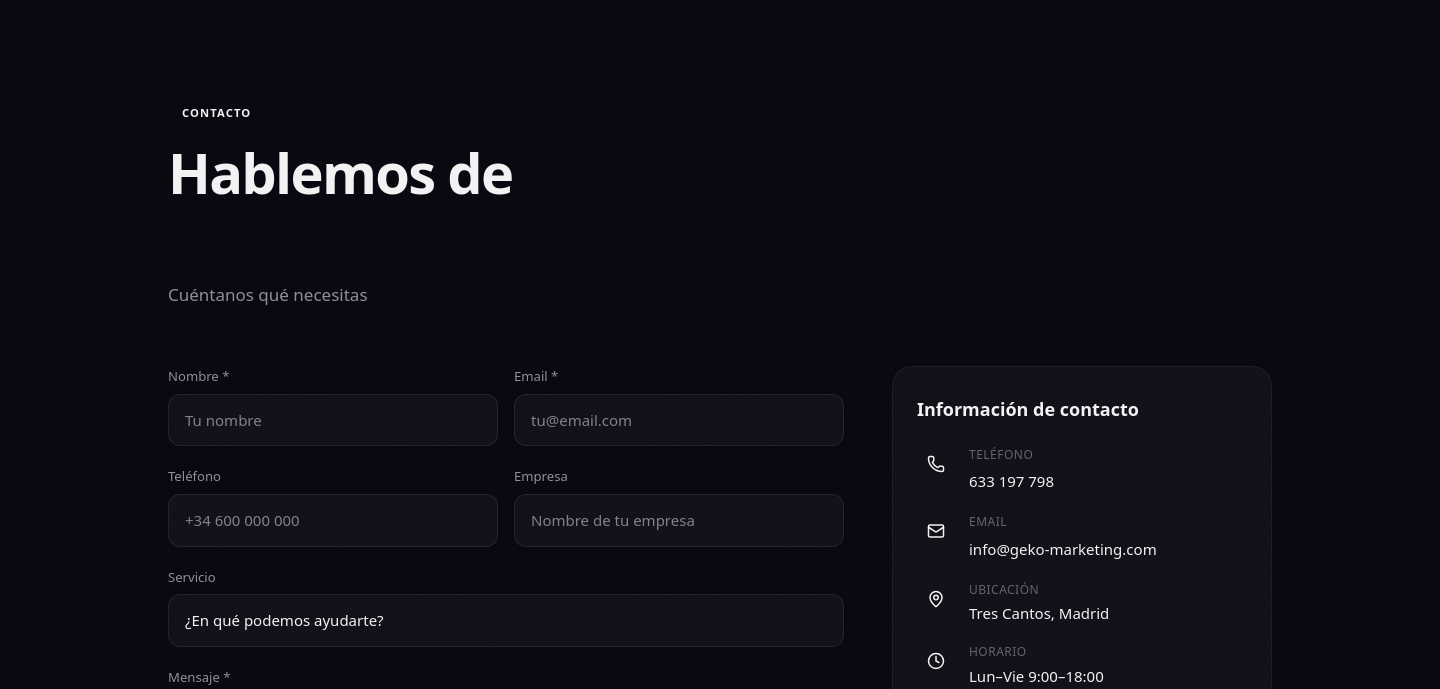
Test: ContactoClient — formulario › muestra mensaje de error si el envío falla
The image size is (1440, 689).
Type "Ana García" into the field labelled "Nombre *". click: [333, 420]
box: left=168, top=394, right=498, bottom=446
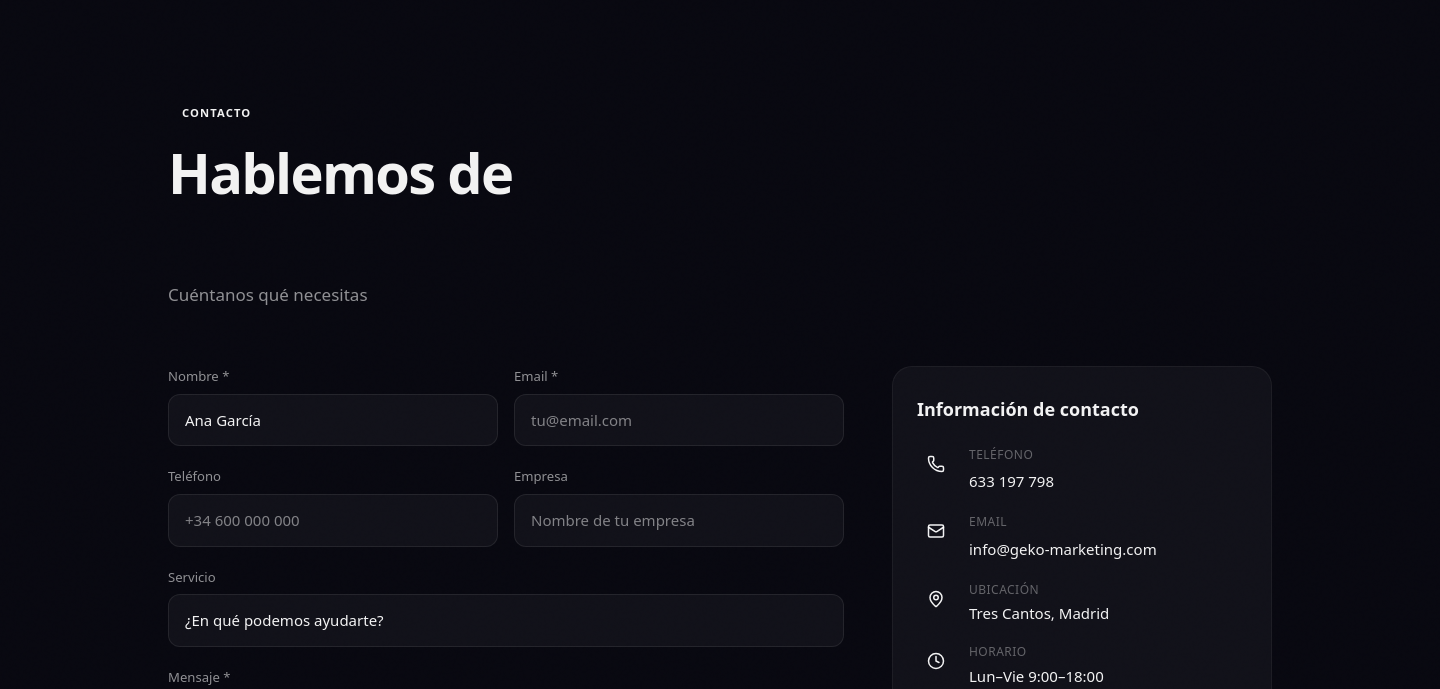
Type "ana@ejemplo.com" into the field labelled "Email *". click: [679, 420]
box: left=514, top=394, right=844, bottom=446
(page scrolled)
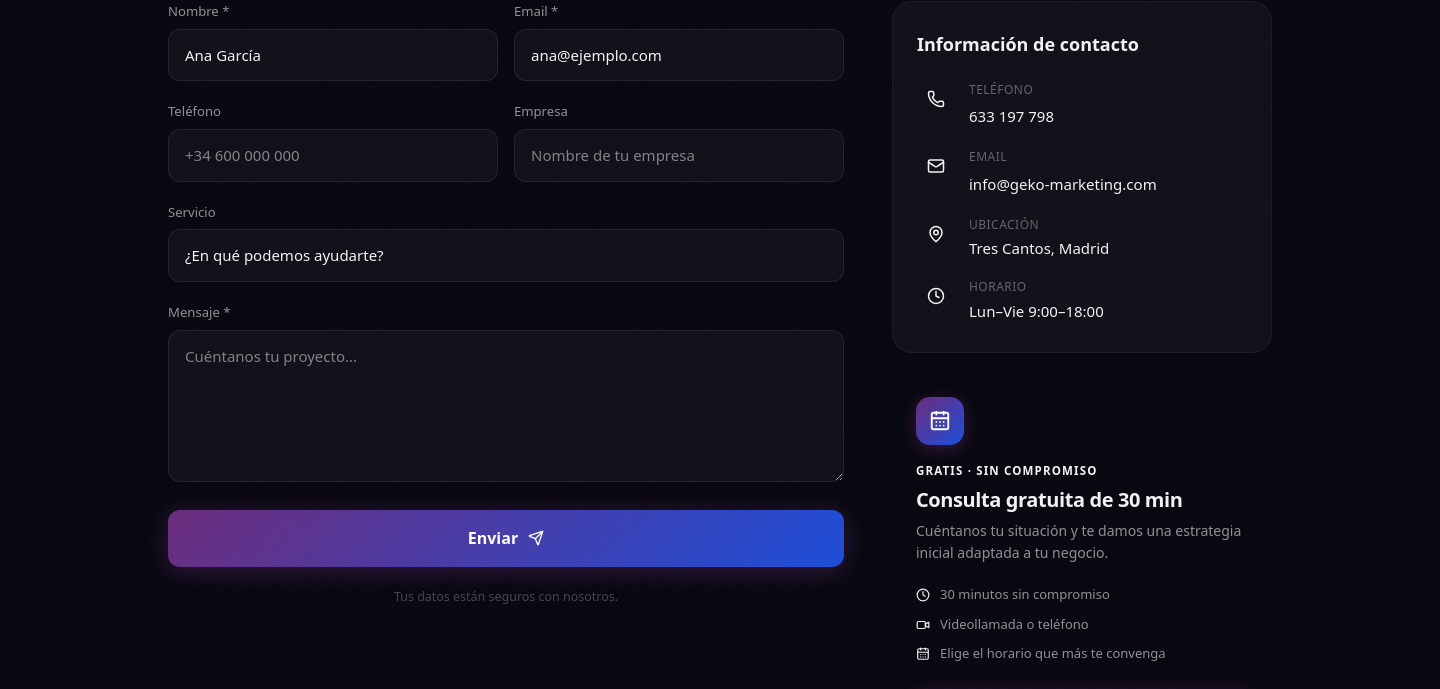
Type "Me interesa el servicio de branding" into the text box labelled "Mensaje *". click: [506, 406]
box: left=168, top=330, right=844, bottom=482
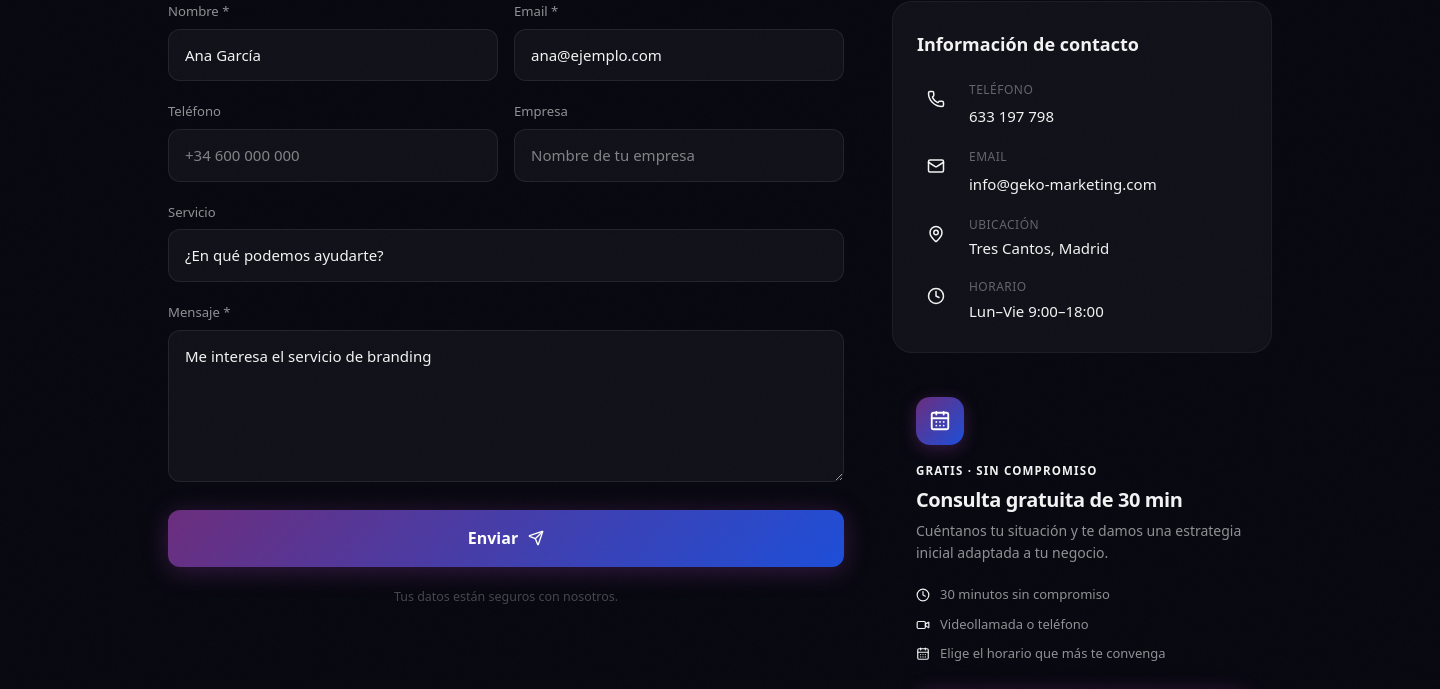
Click the button "Enviar". click: [506, 538]
box: left=168, top=510, right=844, bottom=567
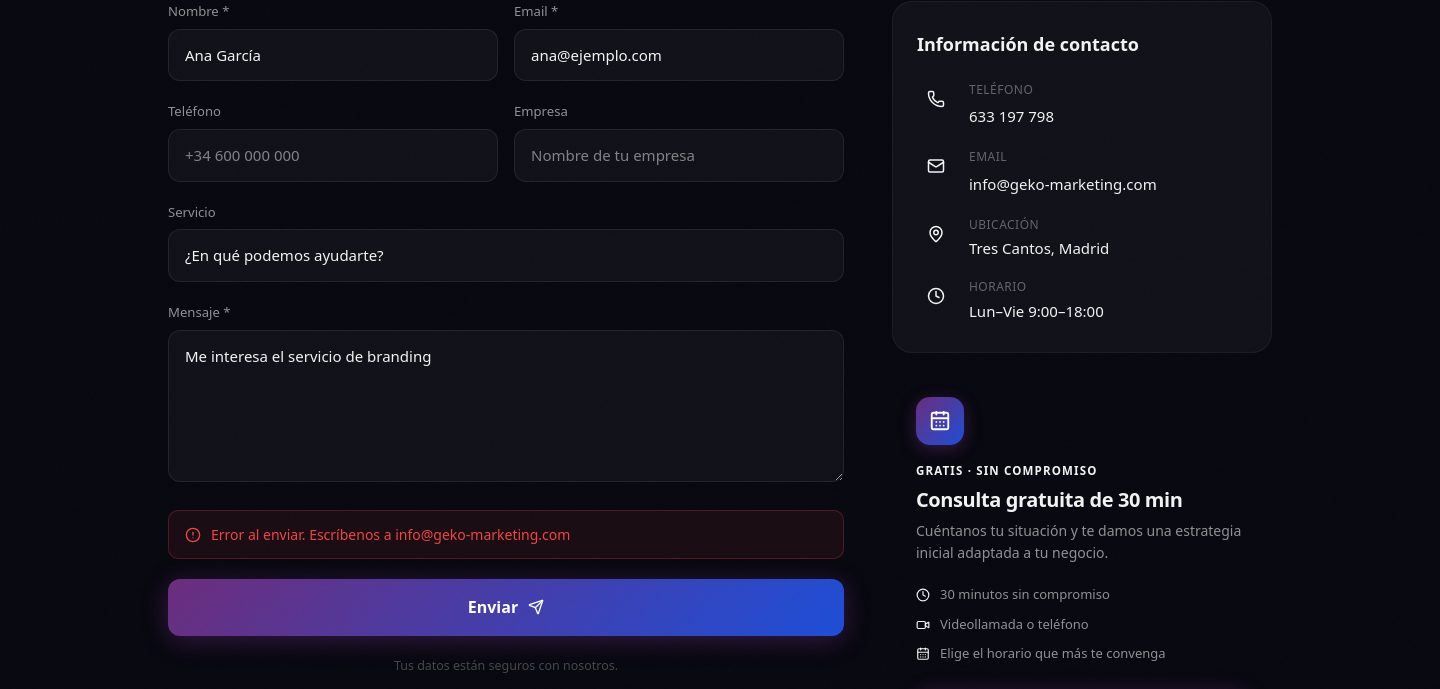
Expected: the text "Error al enviar. Escríbenos a info@geko-marketing.com" is shown, left=211, top=523, right=570, bottom=546
